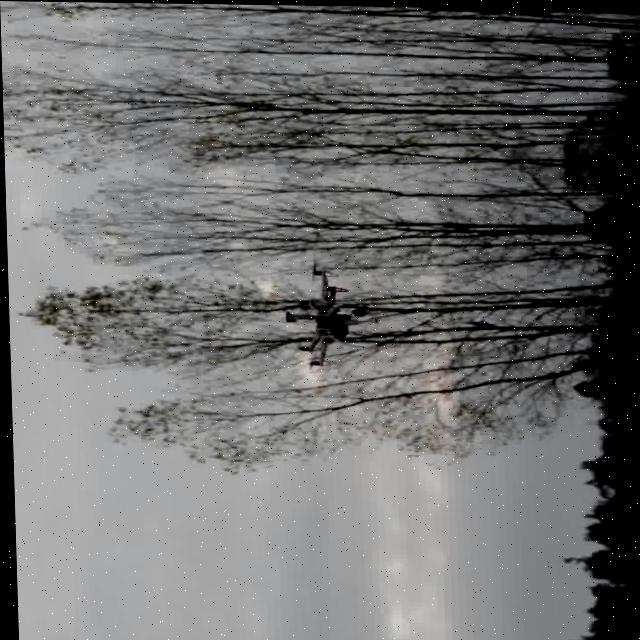drone: (278, 261, 364, 367)
